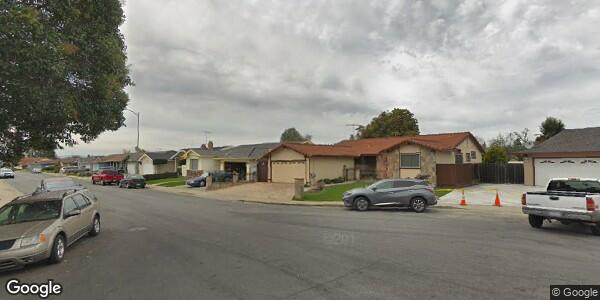Steel_Pole: (119, 105, 144, 151)
